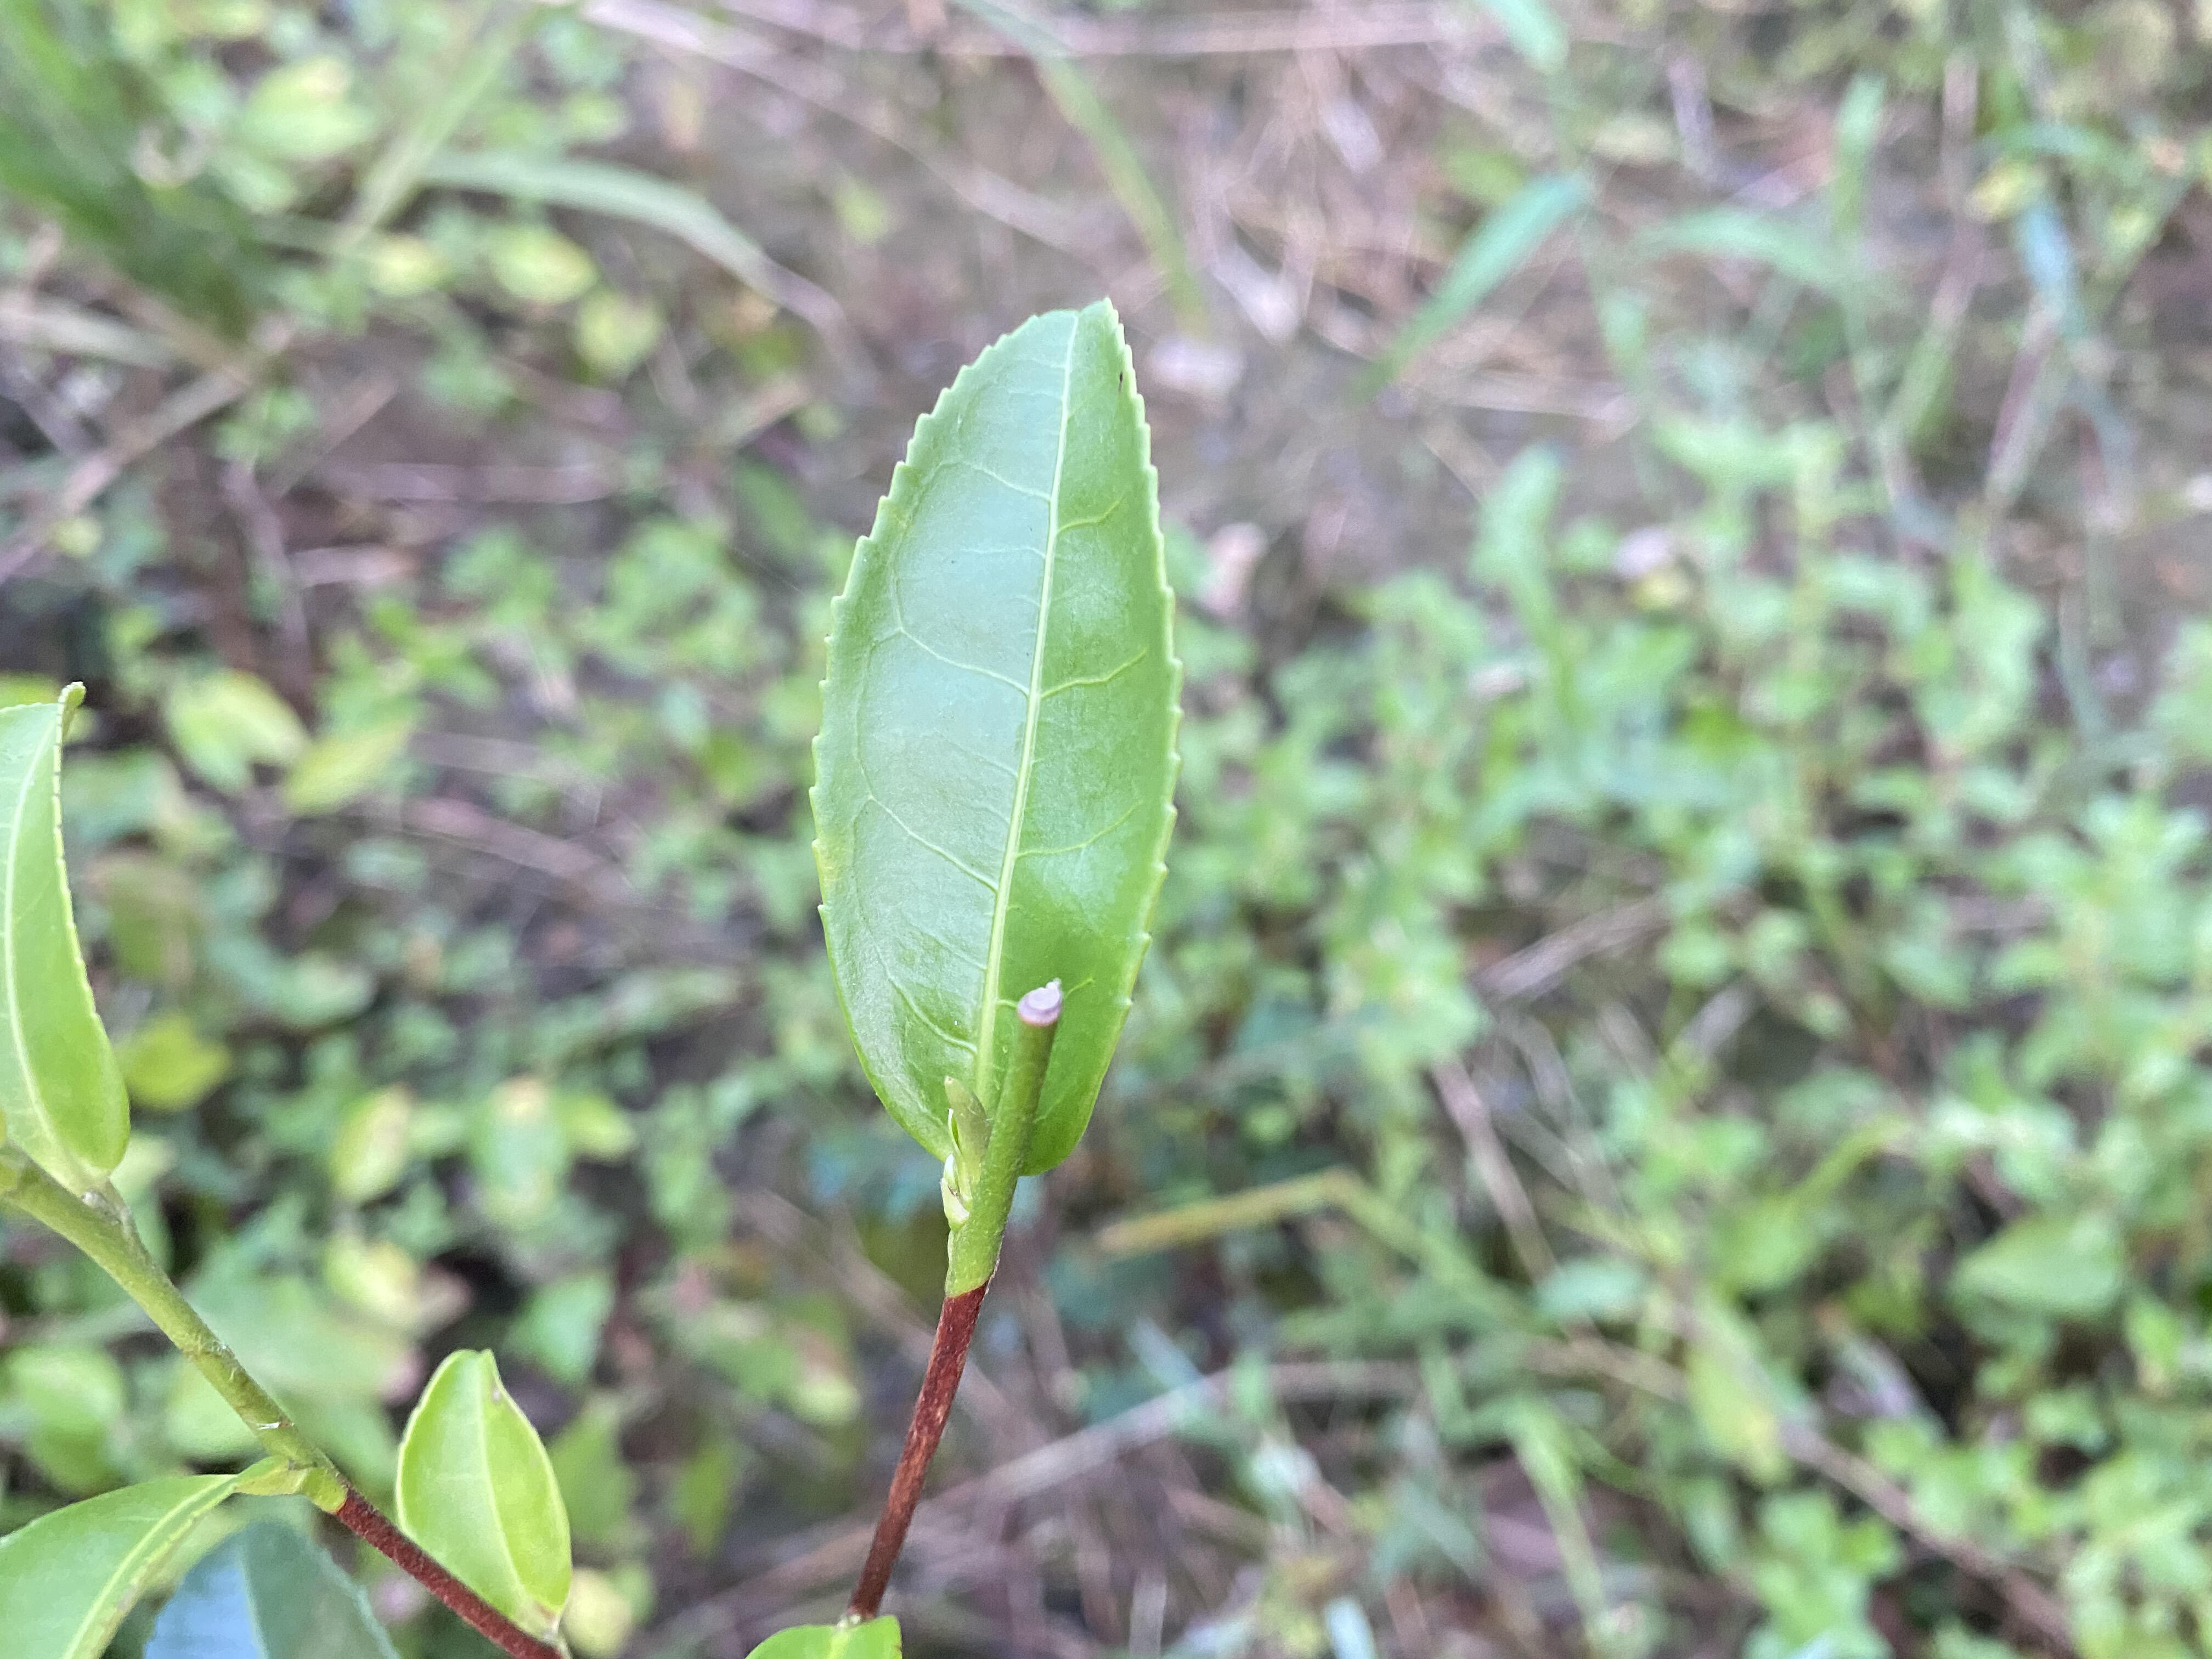healthy: (806, 296, 1181, 1185)
